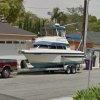Boat: (18, 32, 92, 73)
